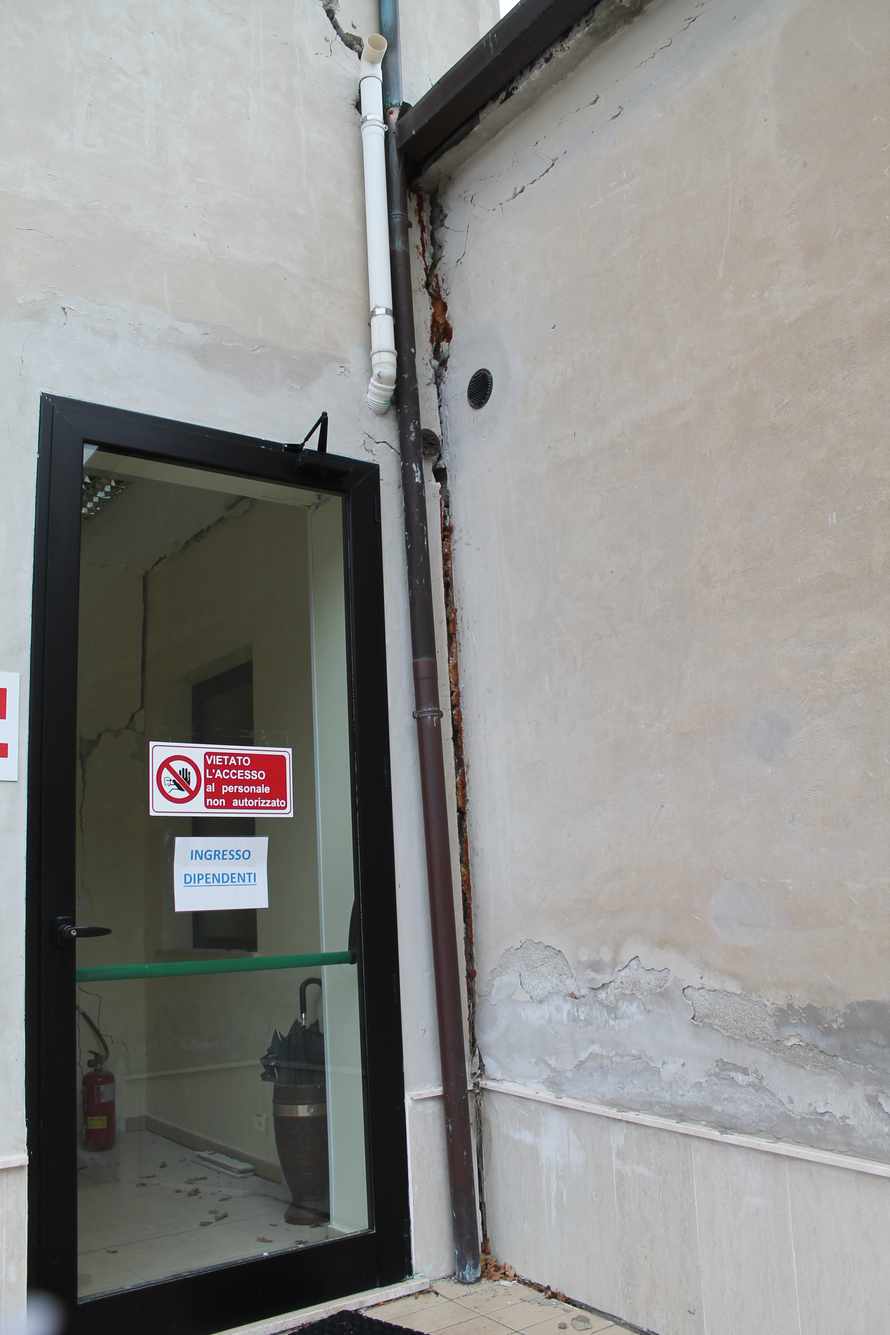Crack: (449, 4, 769, 248), (416, 198, 487, 1076), (39, 295, 364, 397), (140, 494, 268, 580), (5, 209, 97, 287), (77, 695, 156, 771), (78, 984, 143, 1074), (5, 333, 37, 466), (309, 2, 365, 61), (470, 1092, 492, 1234), (77, 772, 95, 921), (135, 568, 156, 691), (403, 37, 442, 95)
Debris: (554, 1311, 598, 1334)
Spalling: (671, 971, 884, 1097), (482, 932, 588, 1010), (585, 950, 680, 1017), (307, 10, 362, 63), (117, 694, 152, 740), (78, 722, 102, 767)
